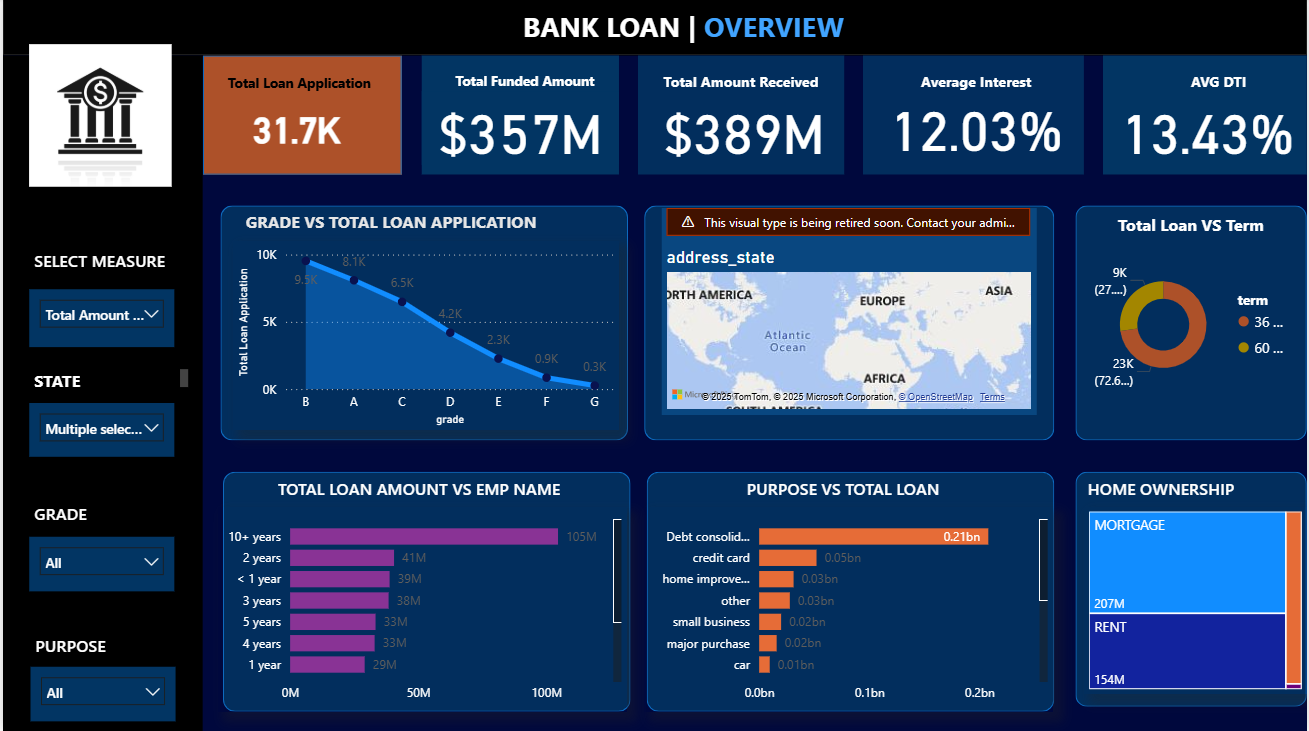

The page's visual inventory and layout, read from the dashboard file:
{"tool":"powerbi","page":{"name":"Overview","canvas":[1280,720],"ordinal":1},"visuals":[{"type":"shape","box":[196.3,56.4,195,117],"z":0},{"type":"shape","box":[0,0,1279.8,56.4],"z":1000},{"type":"shape","box":[0,56.4,196.3,663.8],"z":2000},{"type":"textbox","box":[505.5,4.9,338.7,46.6],"z":3000},{"type":"card","fields":{"Values":["bank_loan financial_loan.Total Loan Application"]},"box":[186.5,42.9,203.7,168.1],"z":4000},{"type":"textbox","box":[191.4,68.7,198.8,31.9],"z":5000},{"type":"textbox","box":[411,56.4,193.9,116.6],"z":6000},{"type":"textbox","box":[411,67.5,202.5,47.9],"z":7000},{"type":"card","fields":{"Values":["bank_loan financial_loan.Total funded amount"]},"box":[411,92,193.9,71.2],"z":8000},{"type":"textbox","box":[623.3,56.4,202.5,116.6],"z":9000},{"type":"textbox","box":[623.3,67.5,202.5,33.1],"z":10000},{"type":"card","fields":{"Values":["bank_loan financial_loan.Total Amount Received"]},"box":[629.5,88.3,196.3,78.5],"z":11000},{"type":"textbox","box":[844.2,56.4,217.2,116.6],"z":12000},{"type":"textbox","box":[857.7,67.5,195.1,62.6],"z":13000},{"type":"card","fields":{"Values":["Avg(bank_loan financial_loan.int_rate)"]},"box":[857.7,88.3,195.1,71.2],"z":14000},{"type":"textbox","box":[1079.8,56.4,200,116.6],"z":15000},{"type":"textbox","box":[1106.8,67.5,173,185.3],"z":16000},{"type":"card","fields":{"Values":["Avg(bank_loan financial_loan.dti)"]},"box":[1084.7,51.5,195.1,152.1],"z":17000},{"type":"shape","box":[213.5,203.7,400,230.7],"z":18000},{"type":"textbox","box":[204.9,203.7,352.1,38],"z":19000},{"type":"textbox","box":[204.9,489.6,195.1,39.3],"z":20000},{"type":"slicer","fields":{"Values":["bank_loan financial_loan.address_state"]},"box":[25.8,397.5,142.3,52.8],"z":21000},{"type":"textbox","box":[25.8,359.5,160.7,29.4],"z":22000},{"type":"slicer","fields":{"Values":["bank_loan financial_loan.grade"]},"box":[25.8,528.8,142.3,54],"z":23000},{"type":"textbox","box":[25.8,489.6,200,39.3],"z":24000},{"type":"slicer","fields":{"Values":["bank_loan financial_loan.purpose"]},"box":[27,656.4,142.3,54],"z":25000},{"type":"textbox","box":[27,619.6,373,36.8],"z":26000},{"type":"lineChart","fields":{"Category":["bank_loan financial_loan.grade"],"Y":["bank_loan financial_loan.Total Loan Application"]},"box":[225.8,238,379.1,186.5],"z":27000},{"type":"shape","box":[629.5,203.7,402.5,230.7],"z":28000},{"type":"filledMap","fields":{"Category":["bank_loan financial_loan.address_state"]},"box":[646.6,206.1,366.9,202.5],"z":29000},{"type":"shape","box":[1052.8,203.7,227,230.7],"z":30000},{"type":"donutChart","fields":{"Category":["bank_loan financial_loan.term"],"Y":["bank_loan financial_loan.Total Loan Application"]},"box":[1061.4,228.2,218.4,185.3],"z":31000},{"type":"textbox","box":[1061.4,206.1,209.8,35.6],"z":32000},{"type":"slicer","fields":{"Values":["Select Measure.Select Measure"]},"box":[25.8,285.9,142.3,56.4],"z":33000},{"type":"textbox","box":[25.8,241.7,160.7,34.4],"z":34000},{"type":"shape","box":[216,465,400,235.6],"z":35000},{"type":"barChart","fields":{"Y":["bank_loan financial_loan.Total Amount Received"],"Category":["bank_loan financial_loan.emp_length"]},"box":[211,499.4,401.2,201.2],"z":36000},{"type":"textbox","box":[0,465,817.2,34.4],"z":37000},{"type":"shape","box":[631.9,465,400,235.6],"z":38000},{"type":"barChart","fields":{"Y":["bank_loan financial_loan.Total Amount Received"],"Category":["bank_loan financial_loan.purpose"]},"box":[629.5,499.4,401.2,201.2],"z":39000},{"type":"textbox","box":[725.2,465,554.6,34.4],"z":40000},{"type":"shape","box":[1052.8,465,227,230.7],"z":41000},{"type":"treemap","fields":{"Values":["bank_loan financial_loan.Total Amount Received"],"Group":["bank_loan financial_loan.home_ownership"]},"box":[1061.4,499.4,218.4,184.1],"z":42000},{"type":"textbox","box":[1031.9,465,209.8,90.8],"z":43000},{"type":"image","box":[0,40.5,191.4,149.7],"z":44000}]}

Visuals, with their boxes in screenshot pixels (x1, y1, x2, y2), scaled from the page's 1280x720 canvas onto the 1309x731 screenshot:
shape: <bbox>201, 57, 400, 176</bbox>
shape: <bbox>0, 0, 1308, 57</bbox>
shape: <bbox>0, 57, 201, 730</bbox>
textbox: <bbox>517, 5, 863, 52</bbox>
card - bank_loan financial_loan.Total Loan Application: <bbox>191, 44, 399, 214</bbox>
textbox: <bbox>196, 70, 399, 102</bbox>
textbox: <bbox>420, 57, 619, 176</bbox>
textbox: <bbox>420, 69, 627, 117</bbox>
card - bank_loan financial_loan.Total funded amount: <bbox>420, 93, 619, 166</bbox>
textbox: <bbox>637, 57, 845, 176</bbox>
textbox: <bbox>637, 69, 845, 102</bbox>
card - bank_loan financial_loan.Total Amount Received: <bbox>644, 90, 845, 169</bbox>
textbox: <bbox>863, 57, 1085, 176</bbox>
textbox: <bbox>877, 69, 1077, 132</bbox>
card - Avg(bank_loan financial_loan.int_rate): <bbox>877, 90, 1077, 162</bbox>
textbox: <bbox>1104, 57, 1308, 176</bbox>
textbox: <bbox>1132, 69, 1308, 257</bbox>
card - Avg(bank_loan financial_loan.dti): <bbox>1109, 52, 1308, 207</bbox>
shape: <bbox>218, 207, 627, 441</bbox>
textbox: <bbox>210, 207, 570, 245</bbox>
textbox: <bbox>210, 497, 409, 537</bbox>
slicer - bank_loan financial_loan.address_state: <bbox>26, 404, 172, 457</bbox>
textbox: <bbox>26, 365, 191, 395</bbox>
slicer - bank_loan financial_loan.grade: <bbox>26, 537, 172, 592</bbox>
textbox: <bbox>26, 497, 231, 537</bbox>
slicer - bank_loan financial_loan.purpose: <bbox>28, 666, 173, 721</bbox>
textbox: <bbox>28, 629, 409, 666</bbox>
lineChart - bank_loan financial_loan.grade x bank_loan financial_loan.Total Loan Application: <bbox>231, 242, 619, 431</bbox>
shape: <bbox>644, 207, 1055, 441</bbox>
filledMap - bank_loan financial_loan.address_state: <bbox>661, 209, 1036, 415</bbox>
shape: <bbox>1077, 207, 1308, 441</bbox>
donutChart - bank_loan financial_loan.term x bank_loan financial_loan.Total Loan Application: <bbox>1085, 232, 1308, 420</bbox>
textbox: <bbox>1085, 209, 1300, 245</bbox>
slicer - Select Measure.Select Measure: <bbox>26, 290, 172, 348</bbox>
textbox: <bbox>26, 245, 191, 280</bbox>
shape: <bbox>221, 472, 630, 711</bbox>
barChart - bank_loan financial_loan.Total Amount Received x bank_loan financial_loan.emp_length: <bbox>216, 507, 626, 711</bbox>
textbox: <bbox>0, 472, 836, 507</bbox>
shape: <bbox>646, 472, 1055, 711</bbox>
barChart - bank_loan financial_loan.Total Amount Received x bank_loan financial_loan.purpose: <bbox>644, 507, 1054, 711</bbox>
textbox: <bbox>742, 472, 1308, 507</bbox>
shape: <bbox>1077, 472, 1308, 706</bbox>
treemap - bank_loan financial_loan.Total Amount Received x bank_loan financial_loan.home_ownership: <bbox>1085, 507, 1308, 694</bbox>
textbox: <bbox>1055, 472, 1270, 564</bbox>
image: <bbox>0, 41, 196, 193</bbox>
